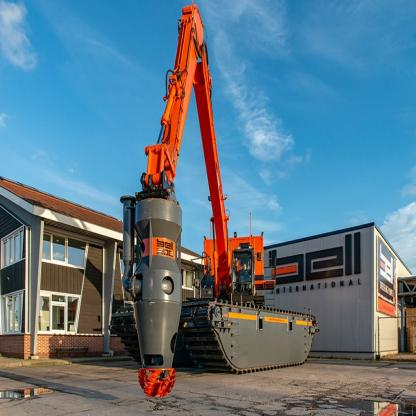excavator: (106, 3, 348, 396)
